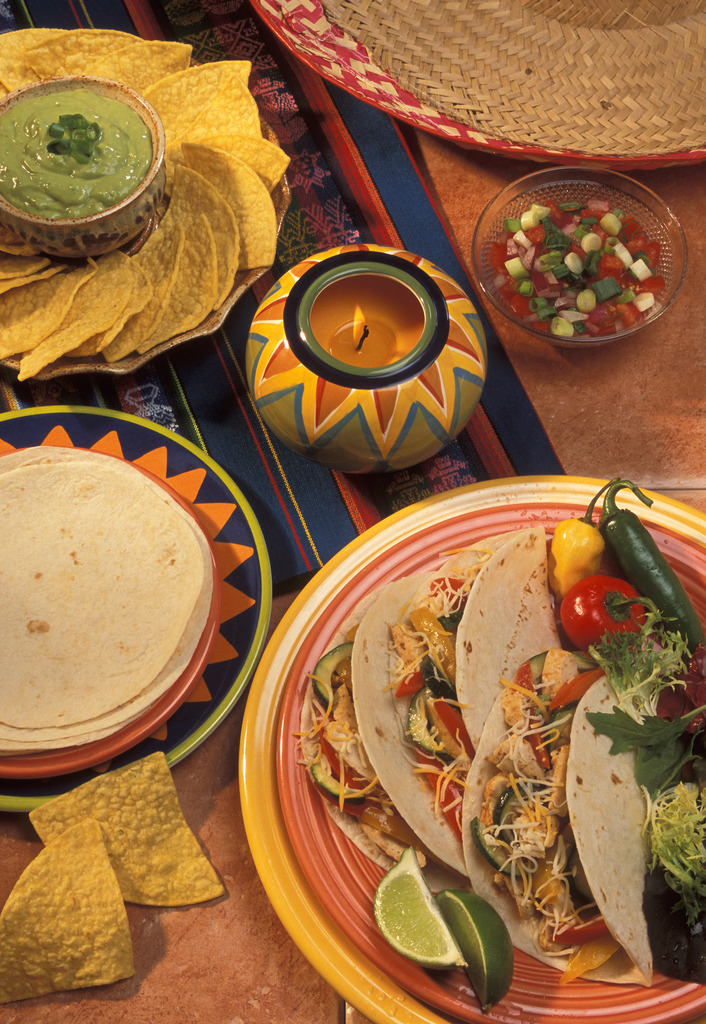taco: (347, 509, 637, 986)
